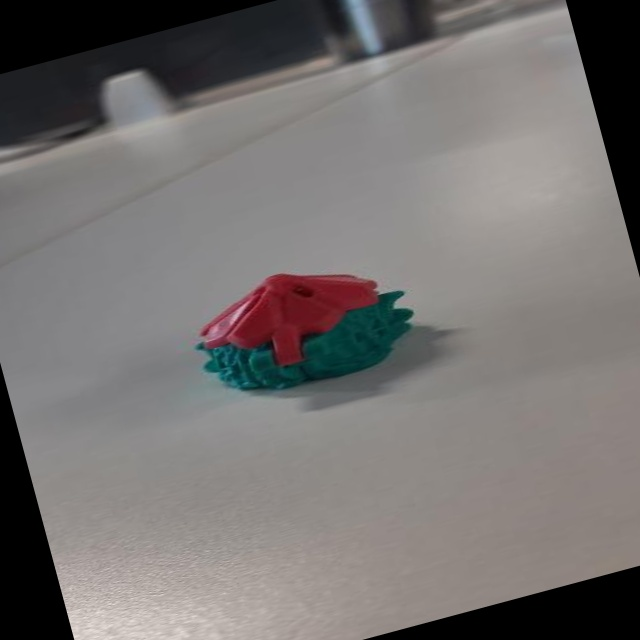House: (171, 233, 438, 415)
